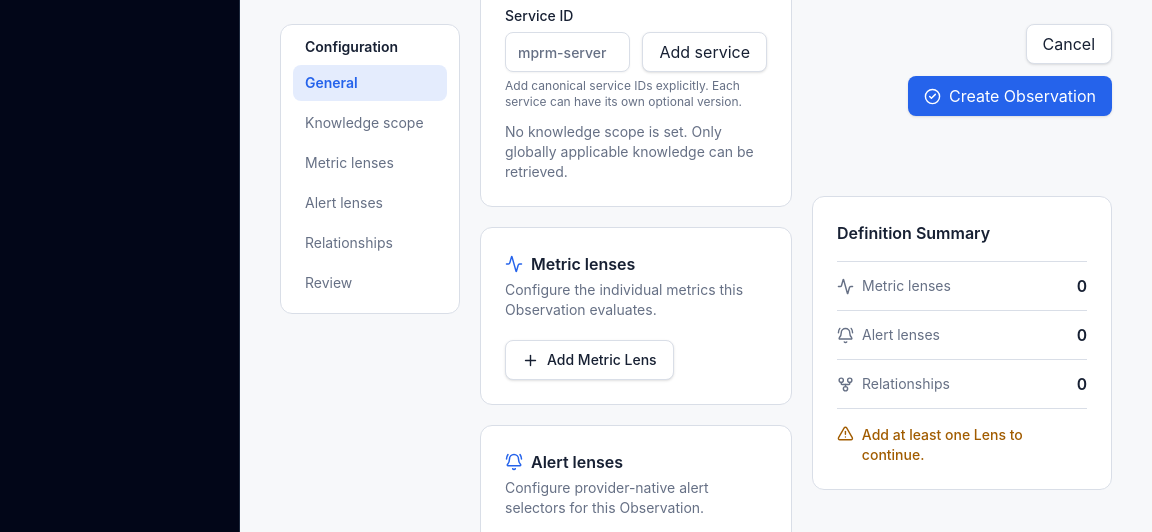
Test case: Metric Lens editor › cancels local Metric edits and explains excluded free text/history without a write
The width and height of the screenshot is (1152, 532).
(page scrolled)
Click the link "Add Metric Lens": (589, 360) [505,340,674,380]
(page scrolled)
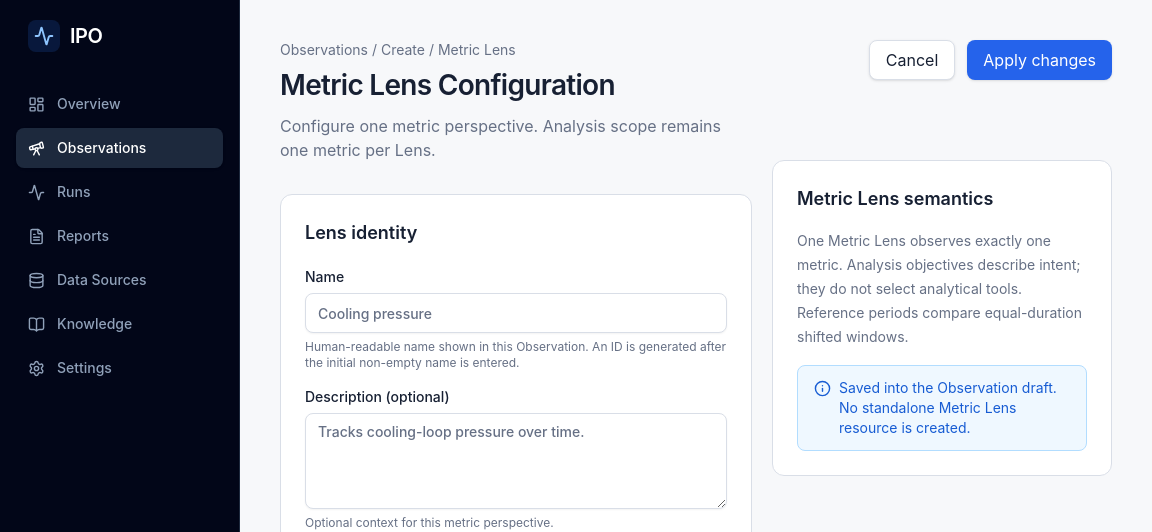
In the field labelled "Name": (516, 313) [305,293,727,333], type "Discarded"
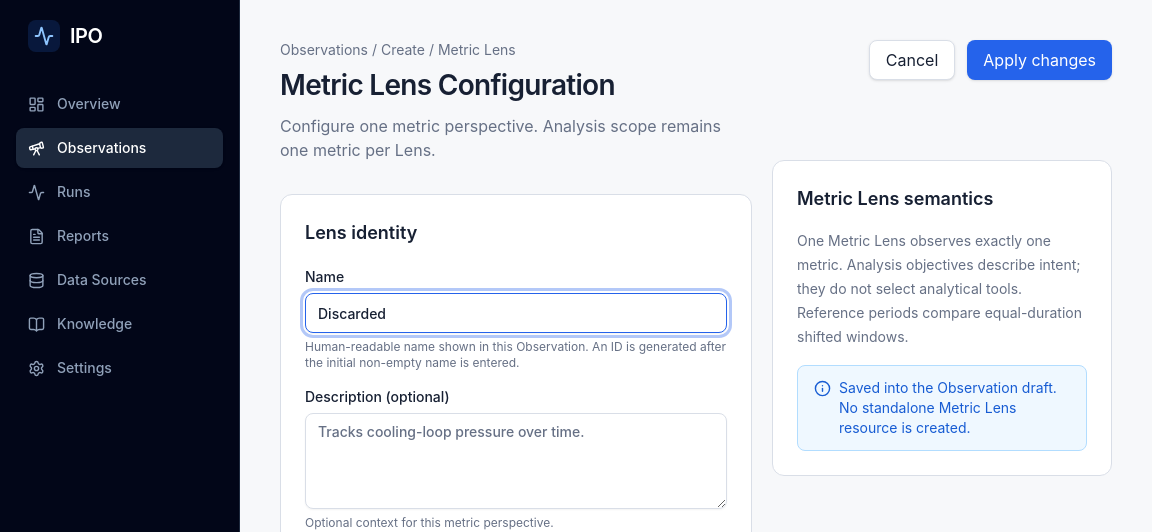
Press Tab
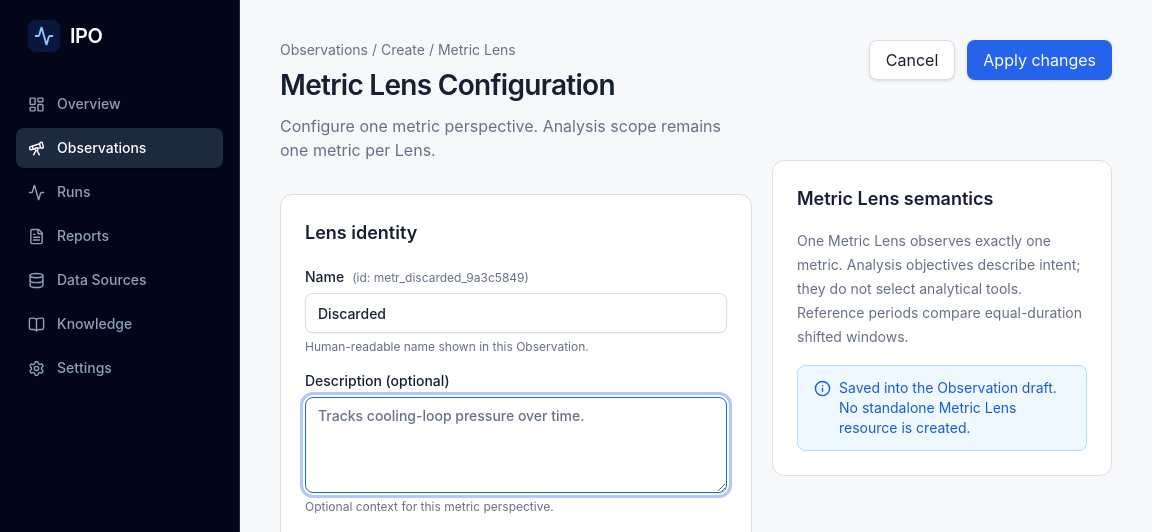
expect the text "(id: metr_discarded_9a3c5849)" is shown: met, box [352,270,529,286]
Click the button "Cancel": (912, 60) [869,40,955,80]
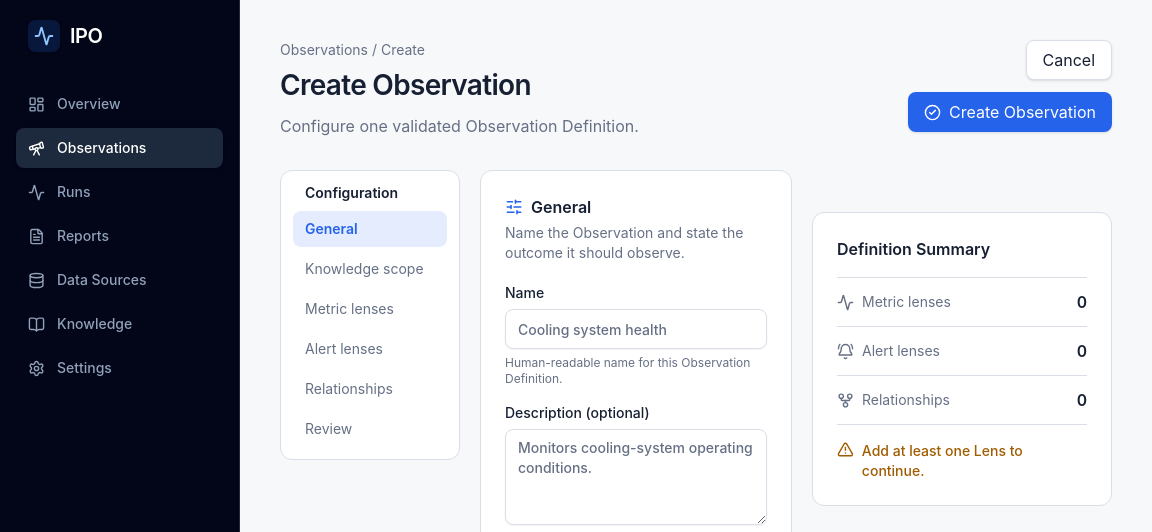
expect the text "discarded" is gone: met
